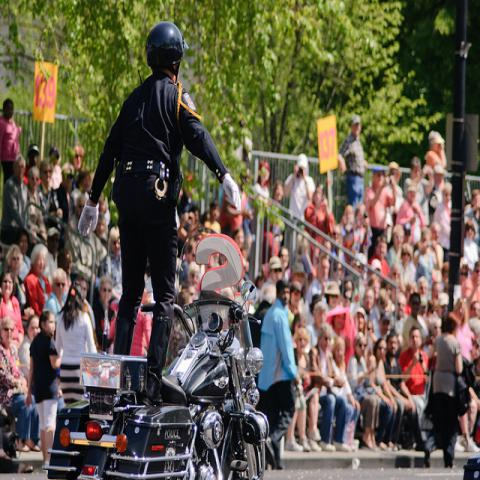motorcycle: (46, 280, 270, 474)
